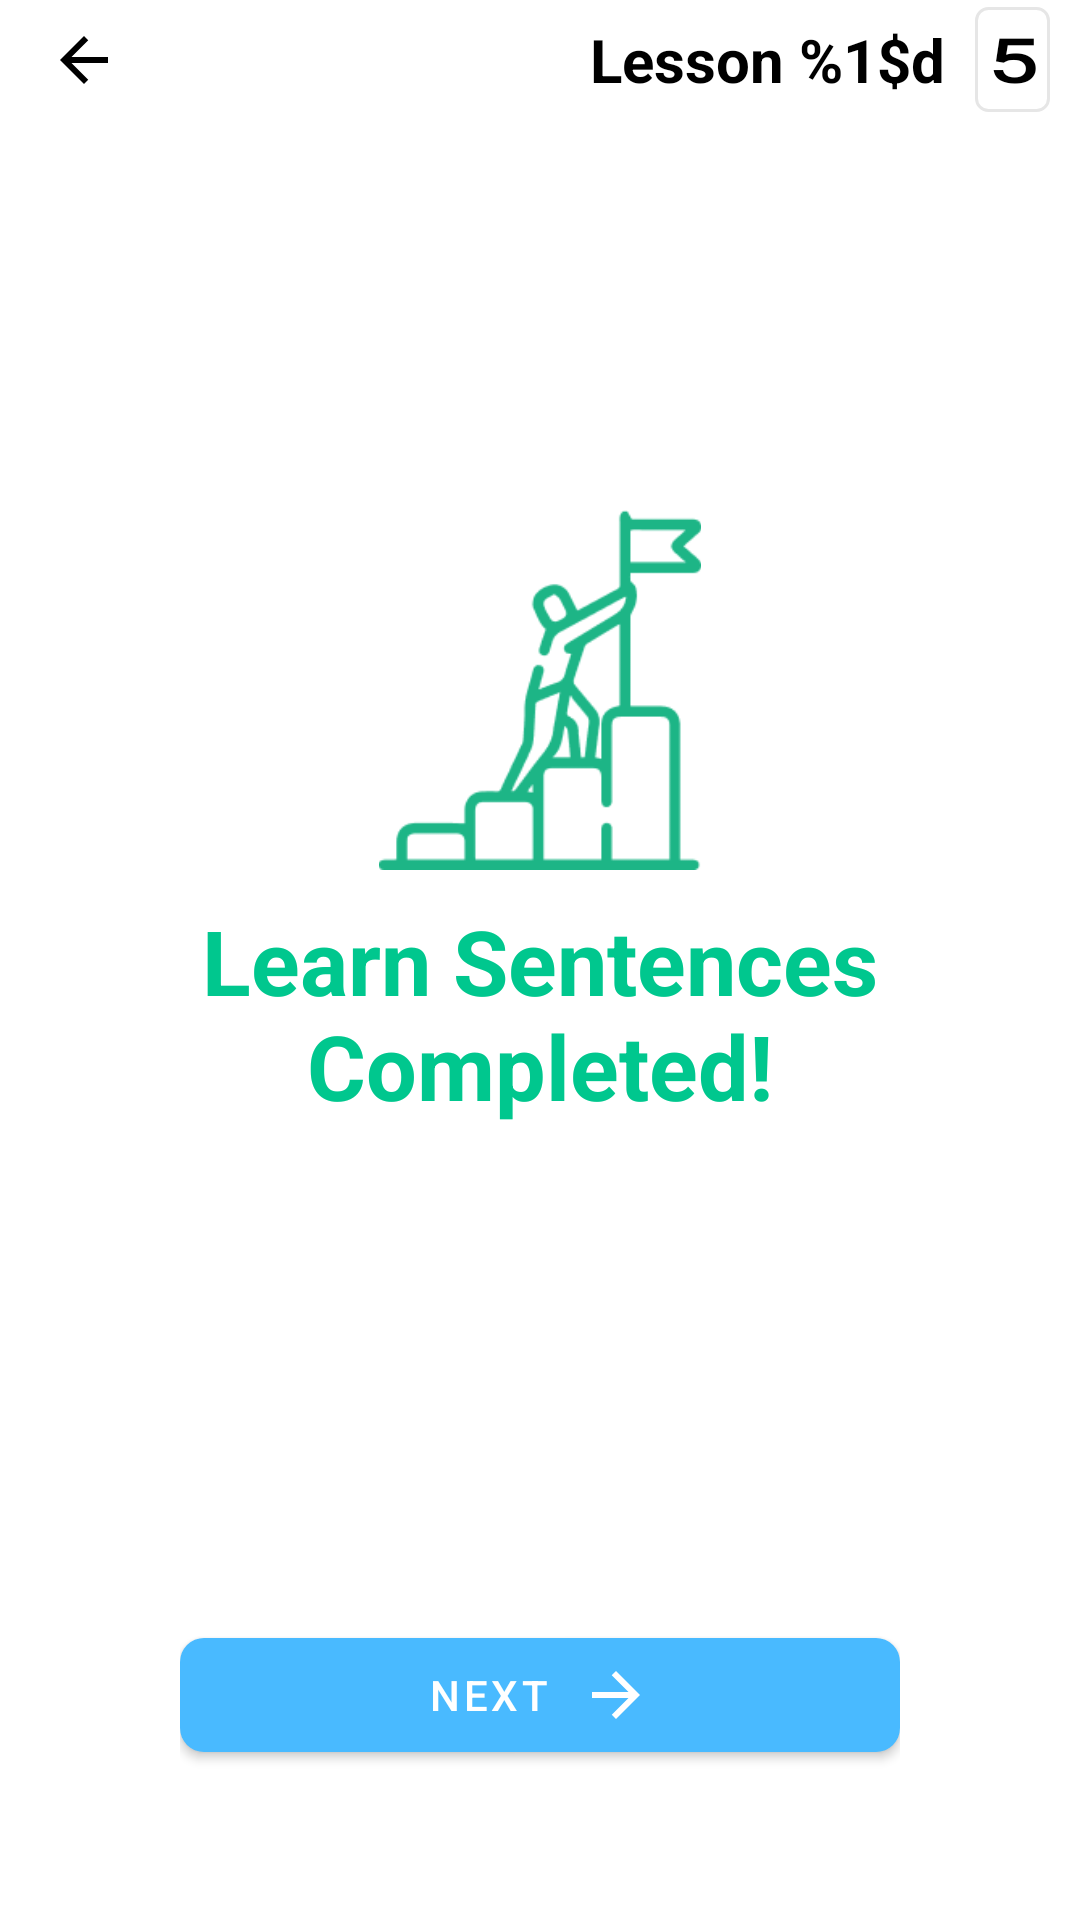

Screen size 1080x1920. Icon name, then its center in pixels as (x,y):
finish: (540,690)
